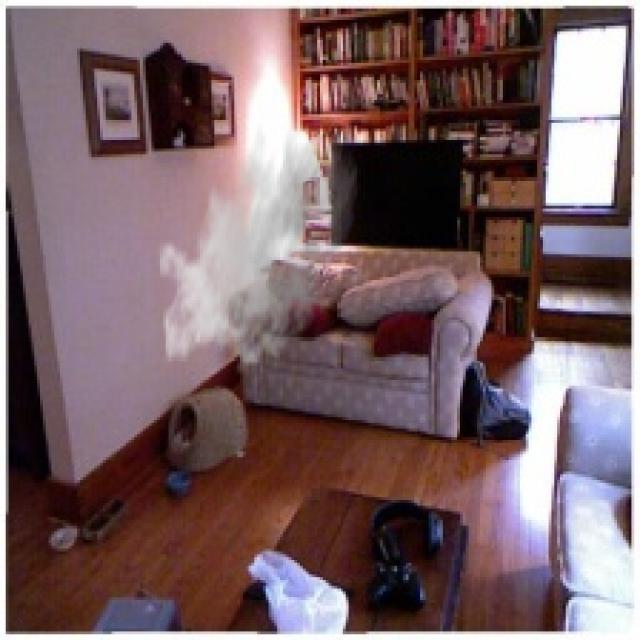Smoke: (157, 111, 360, 378)
